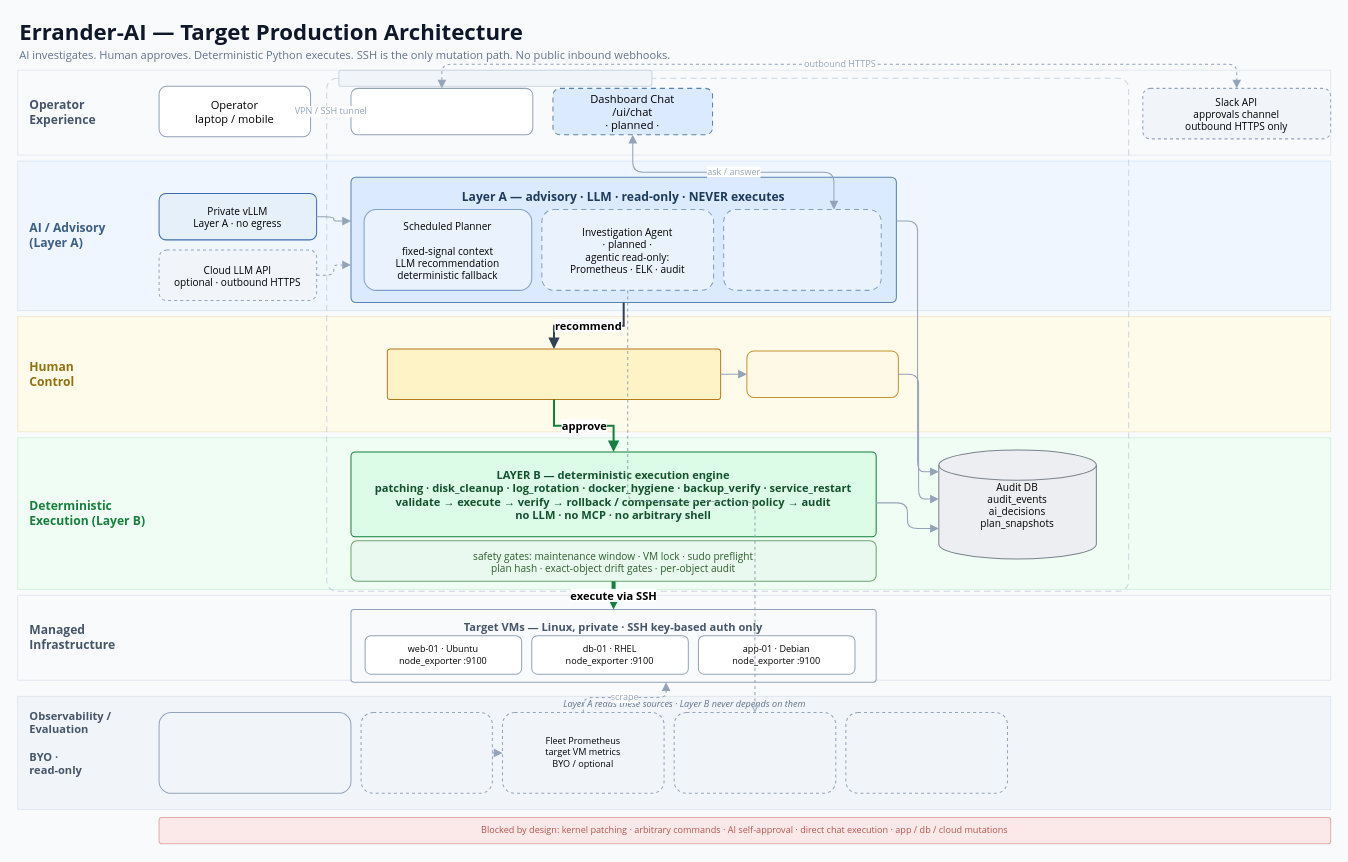
This 1348x862 diagram has some shape labels left out. Here are the shapes that lost their labels. From the top down, the centre of each, then its label:
[495,77]: Controller VM · Agent Host · private · no public IP
[441,111]: Web UI :9090 approvals · dashboard
[802,249]: Operator Chat Interface · planned · answers /ui/chat
[553,373]: HUMAN APPROVAL GATE Slack ✅ / ❌ · Web UI · every live change
[822,373]: Plan snapshot immutable · hashed
[254,752]: Controller Prometheus :9091 scrapes agent /metrics :9090 monitors Errander
[426,752]: Grafana dashboards
[754,752]: ELK / Loki target + agent logs BYO / optional
[926,752]: LangSmith / Eval Layer A traces optional egress
